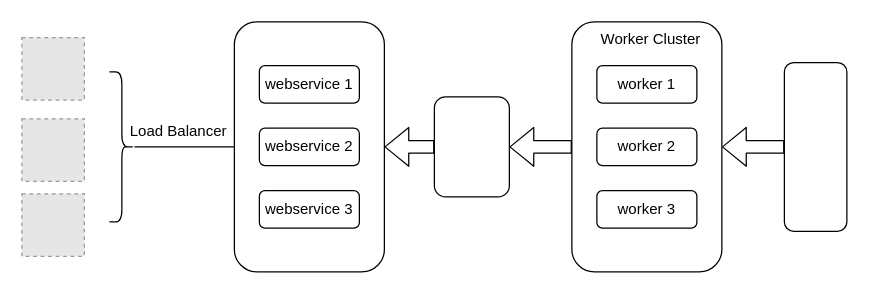
Image size: 869x294. Some labels were removed from this diagram. Grey dashed boxes stand in for pictures. The box of each missing label's shape, as (x1, y1, x2, y2) in pixels:
PDT: (783, 61, 847, 231)
redis: (433, 96, 509, 197)
Webservice Cluster: (233, 21, 384, 272)
